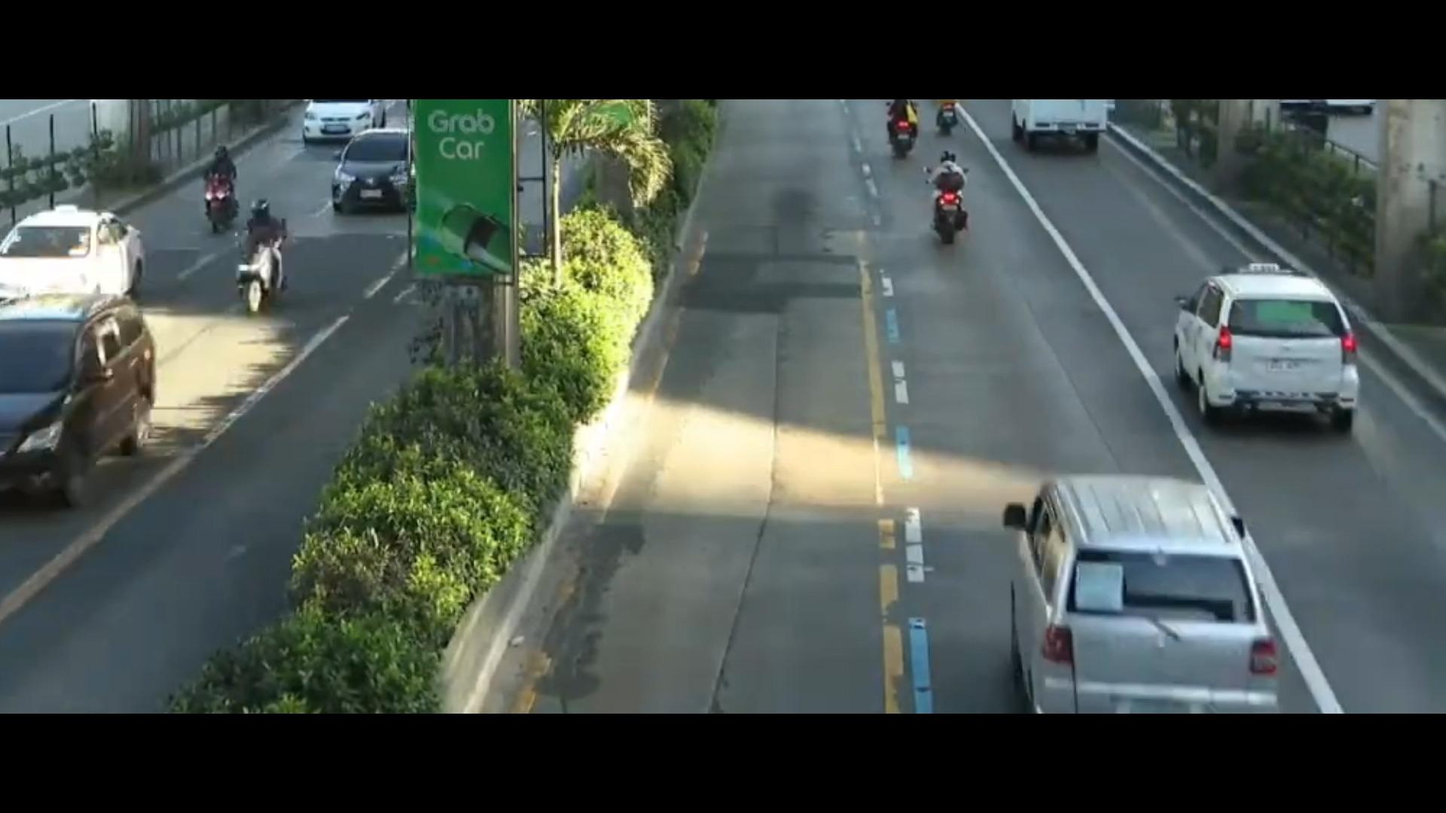Motorcycle: (210, 196, 294, 334), (907, 144, 982, 258), (173, 139, 259, 236), (864, 95, 933, 161)
SUV: (1163, 245, 1375, 458), (0, 289, 181, 523)
Sedan: (0, 191, 171, 314), (322, 131, 415, 204), (294, 103, 378, 146)
Van: (965, 430, 1305, 711)
